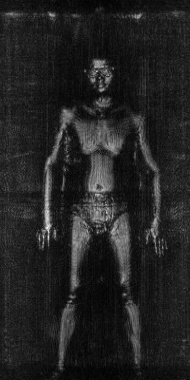gun: (61, 133, 79, 176)
